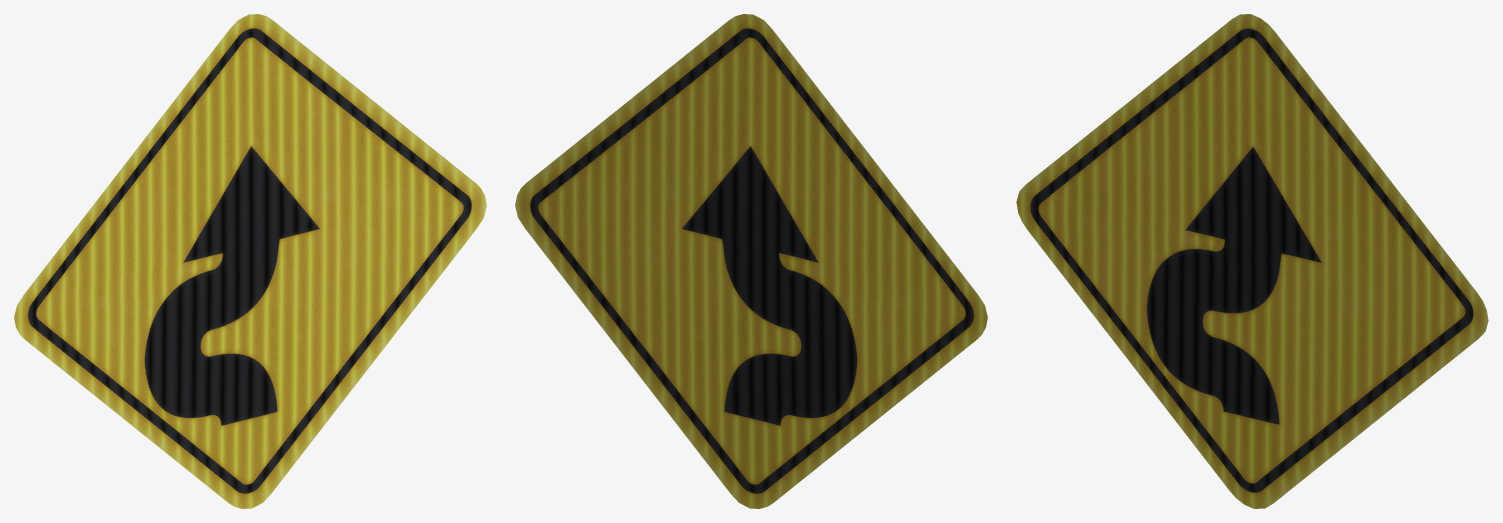
Rendered from RoadSign01Curvy.fbx.
The picture shows the model from 3 angles, left to right: view 1: azimuth 30°, elevation 25°; view 2: azimuth 150°, elevation 25°; view 3: azimuth 330°, elevation 25°; orthographic projection.
Visible parts, largest first — view 1: Polygonal_Geometry; view 2: Polygonal_Geometry; view 3: Polygonal_Geometry.
Boxes of the visible parts, x1,y1,x2,y2 form: Polygonal_Geometry: (14, 14, 486, 508); Polygonal_Geometry: (515, 14, 987, 508); Polygonal_Geometry: (1016, 14, 1488, 508).
Bounding box in the file's own units: 4.5 × 4.5 × 0.
